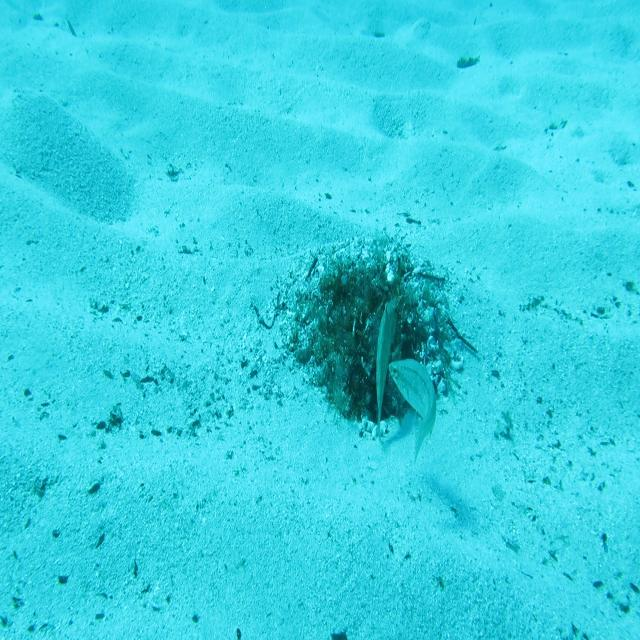FAN: (372, 292, 399, 454)
core_nest: (342, 279, 386, 314)
female: (386, 356, 438, 467)
nest: (269, 227, 467, 458)
vegetation: (454, 53, 480, 71)
